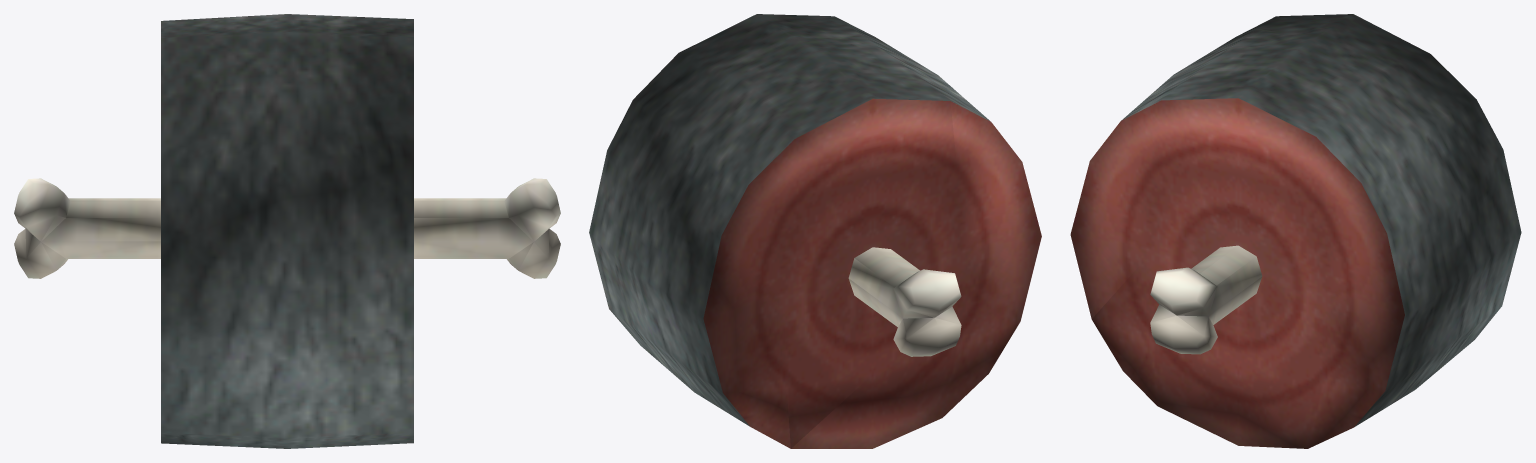
Rendered from micon.ico.obj.
3 renders of one model, left to right at view 1: azimuth 30°, elevation 25°; view 2: azimuth 150°, elevation 25°; view 3: azimuth 270°, elevation 25°, orthographic. The views are drawn at different scales.
Bounding box in the file's own units: 4.03 × 3.59 × 4.06.
Materials: 1 (1 with a texture image).
